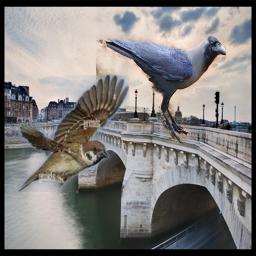Crow: (96, 35, 226, 144)
Sparrow: (18, 75, 129, 192)
